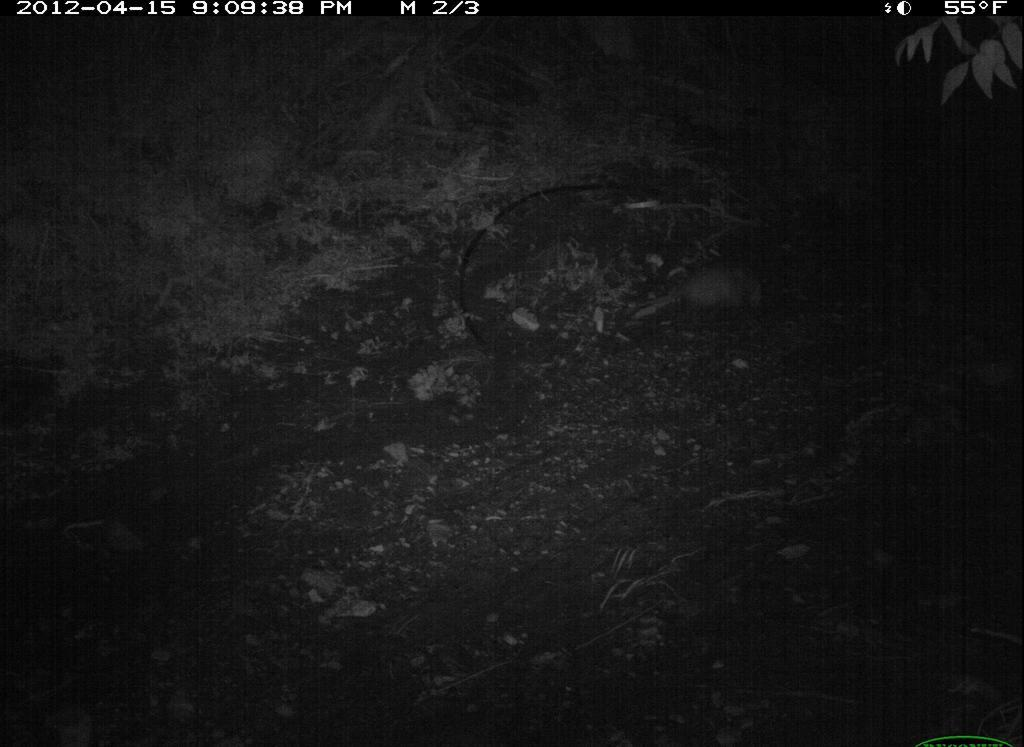opossum: (631, 256, 772, 324)
